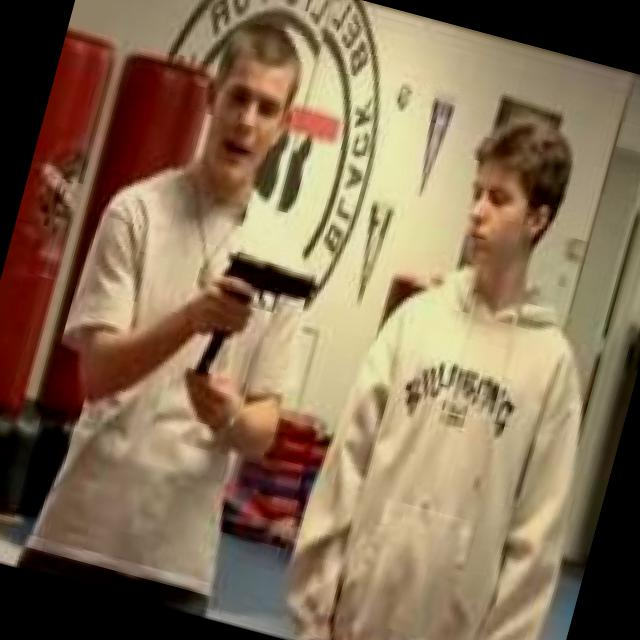handgun: (196, 227, 356, 330)
